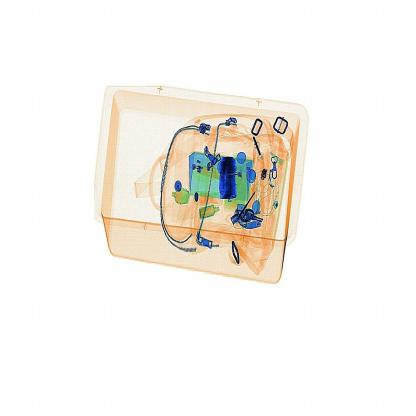scissors: (214, 149, 248, 205)
